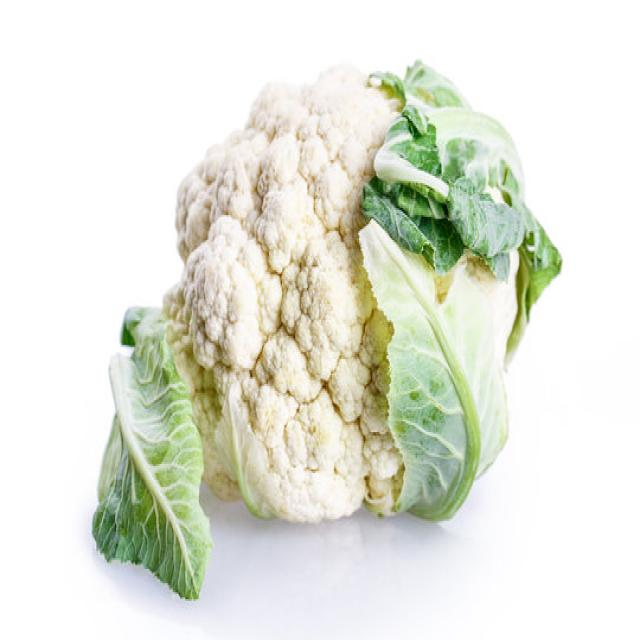Cauliflower: (165, 48, 512, 527)
